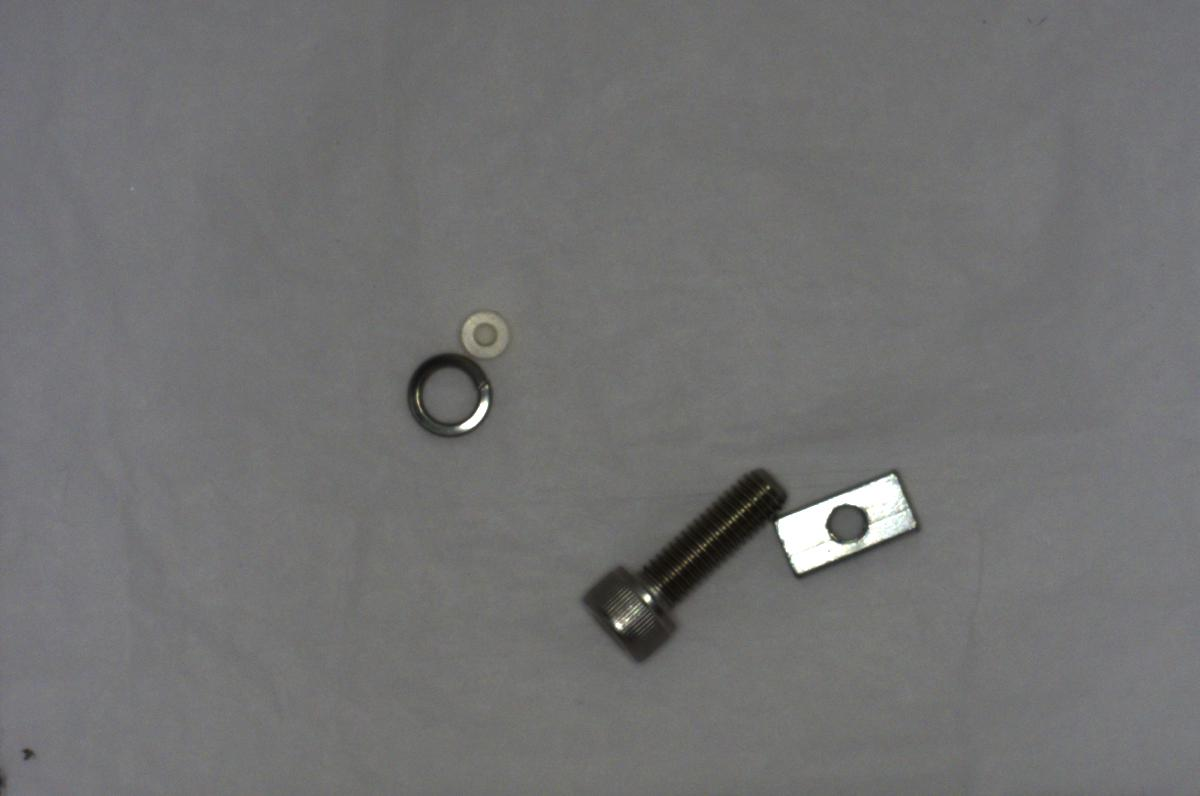Hexagon screw: (579, 460, 790, 653)
Plastic cushion pillar: (445, 300, 513, 366)
Rectangular nut: (767, 461, 921, 579)
Spring washer: (397, 349, 505, 442)
